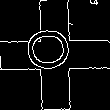O_E: (29, 33, 81, 77)
